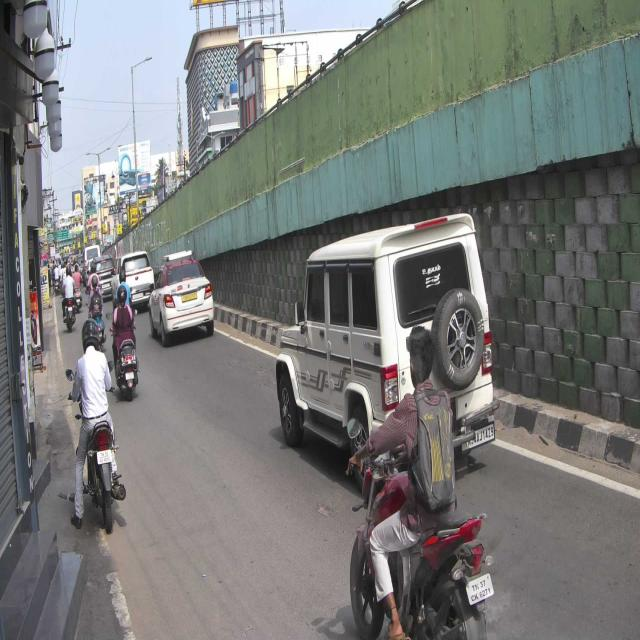single_rider: (346, 324, 494, 640), (66, 317, 130, 535)
